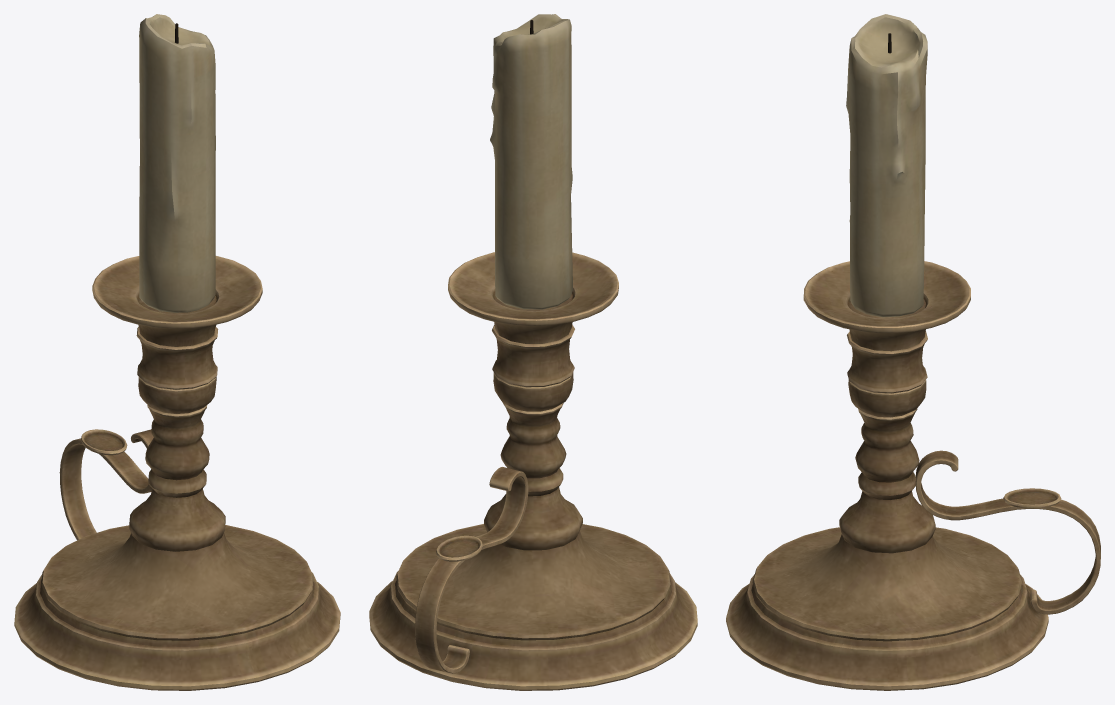
Rendered from candle-b.glb.
3 renders of one model, left to right at view 1: azimuth 30°, elevation 25°; view 2: azimuth 150°, elevation 25°; view 3: azimuth 270°, elevation 25°, orthographic. The views are drawn at different scales.
Visible parts, largest first — view 1: candle-b; view 2: candle-b; view 3: candle-b.
Boxes of the visible parts, x1,y1,x2,y2 form: candle-b: (14, 14, 340, 690); candle-b: (369, 14, 697, 690); candle-b: (726, 14, 1100, 690).
Bounding box in the file's own units: 0.1213 × 0.2467 × 0.1409.
Materials: 2 (2 with a texture image).
